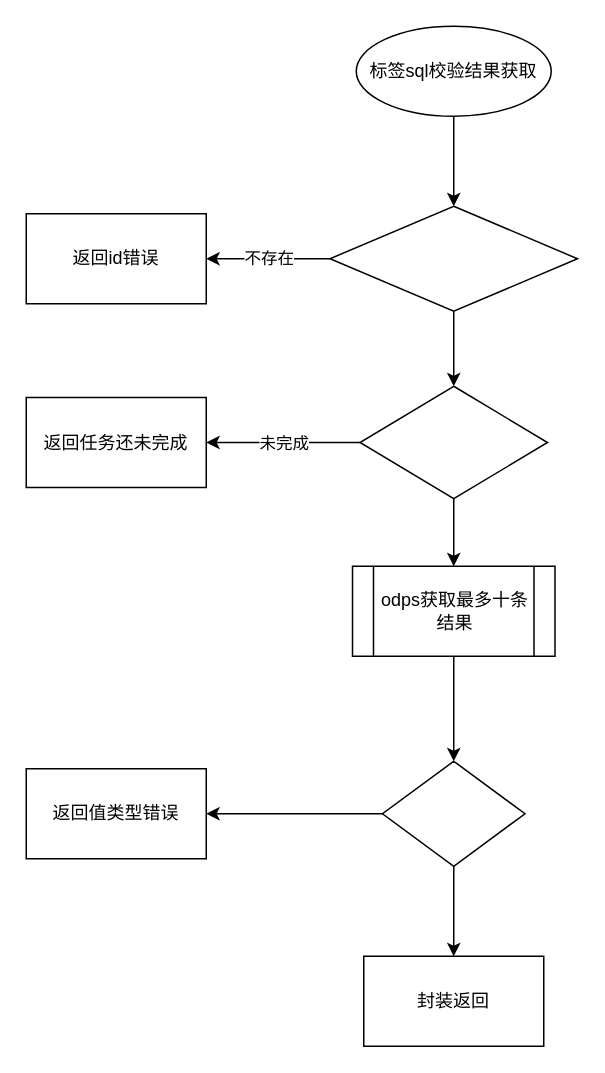
Image size: 605x1073. Some labels were removed from this diagram. Here are the shapes that lost their labels. From the top down, the centre of each, then its label:
At pixel 453 258: "校验对应id实例是否存在".
At pixel 453 442: "确认任务是否完成".
At pixel 453 813: "校验值类型 是否匹配".
